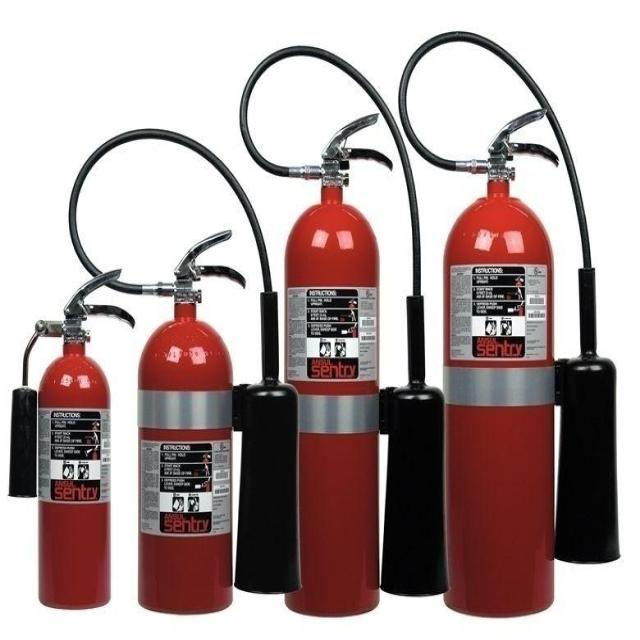fire_extinguisher: (395, 25, 622, 621), (235, 40, 453, 621), (63, 122, 306, 618), (3, 264, 138, 614)
